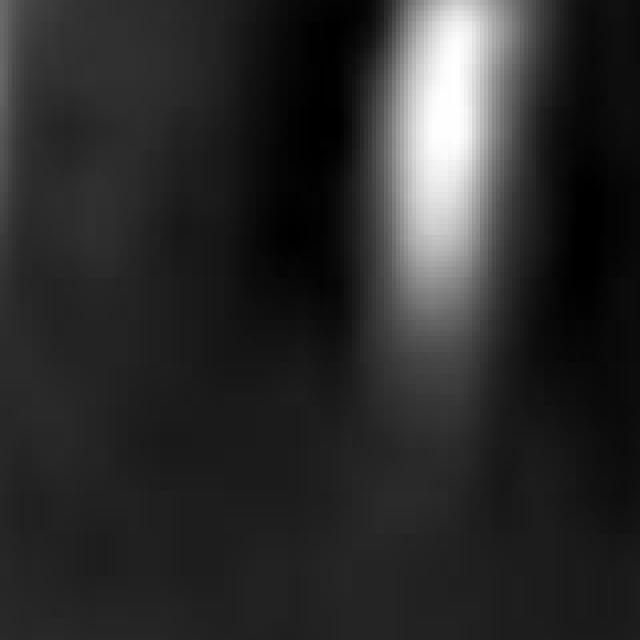person: (349, 1, 541, 422)
